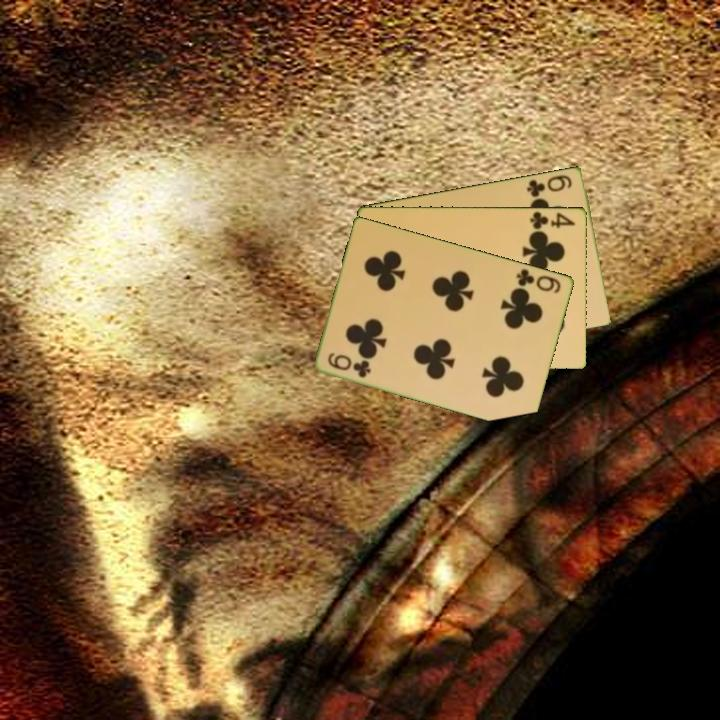4c: (527, 208, 578, 232)
6c: (513, 265, 564, 296), (324, 349, 374, 380), (523, 171, 575, 200)
